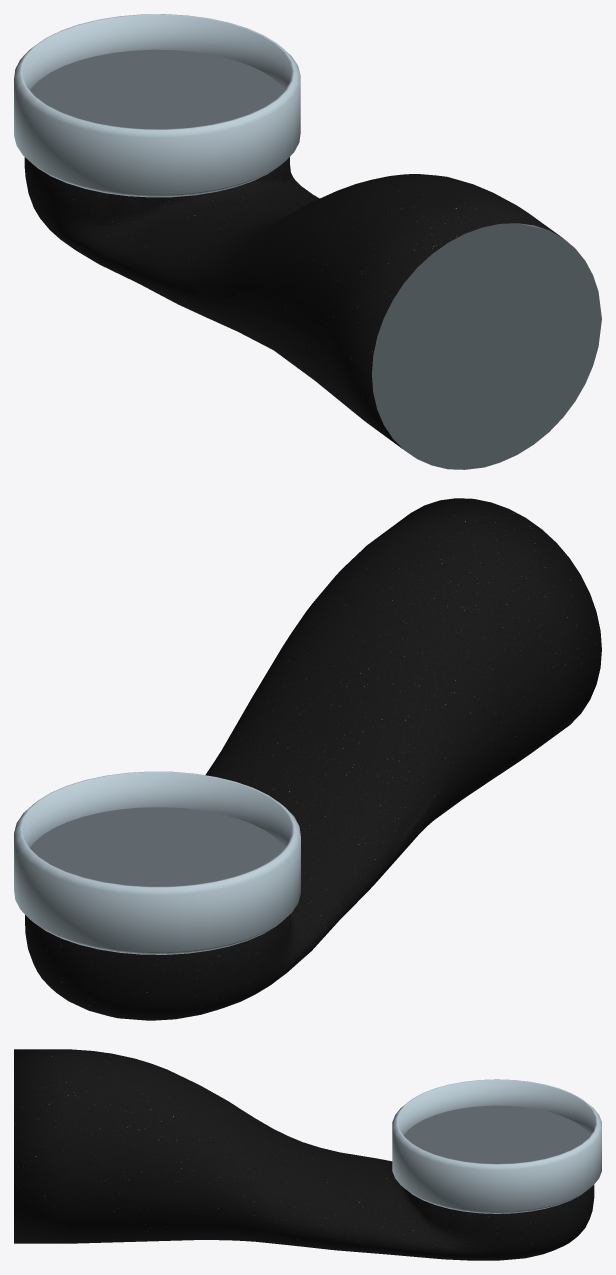
Rendered from arm_half_1.dae.
The picture shows the model from 3 angles, top to bottom: view 1: azimuth 30°, elevation 25°; view 2: azimuth 150°, elevation 25°; view 3: azimuth 270°, elevation 25°; orthographic projection. The views are drawn at different scales.
Visible parts, largest first — view 1: node, Ring Big; view 2: node, Ring Big; view 3: node, Ring Big.
Part boxes in pixels (x1,y1,x2,y2): node: (24, 49, 601, 469); Ring Big: (14, 14, 300, 197); node: (25, 498, 601, 1020); Ring Big: (14, 771, 300, 954); node: (14, 1049, 594, 1260); Ring Big: (392, 1079, 601, 1213).
Size of the model in its own units: 0.0892 by 0.2493 by 0.0849.
Materials: 1 (1 with a texture image).
